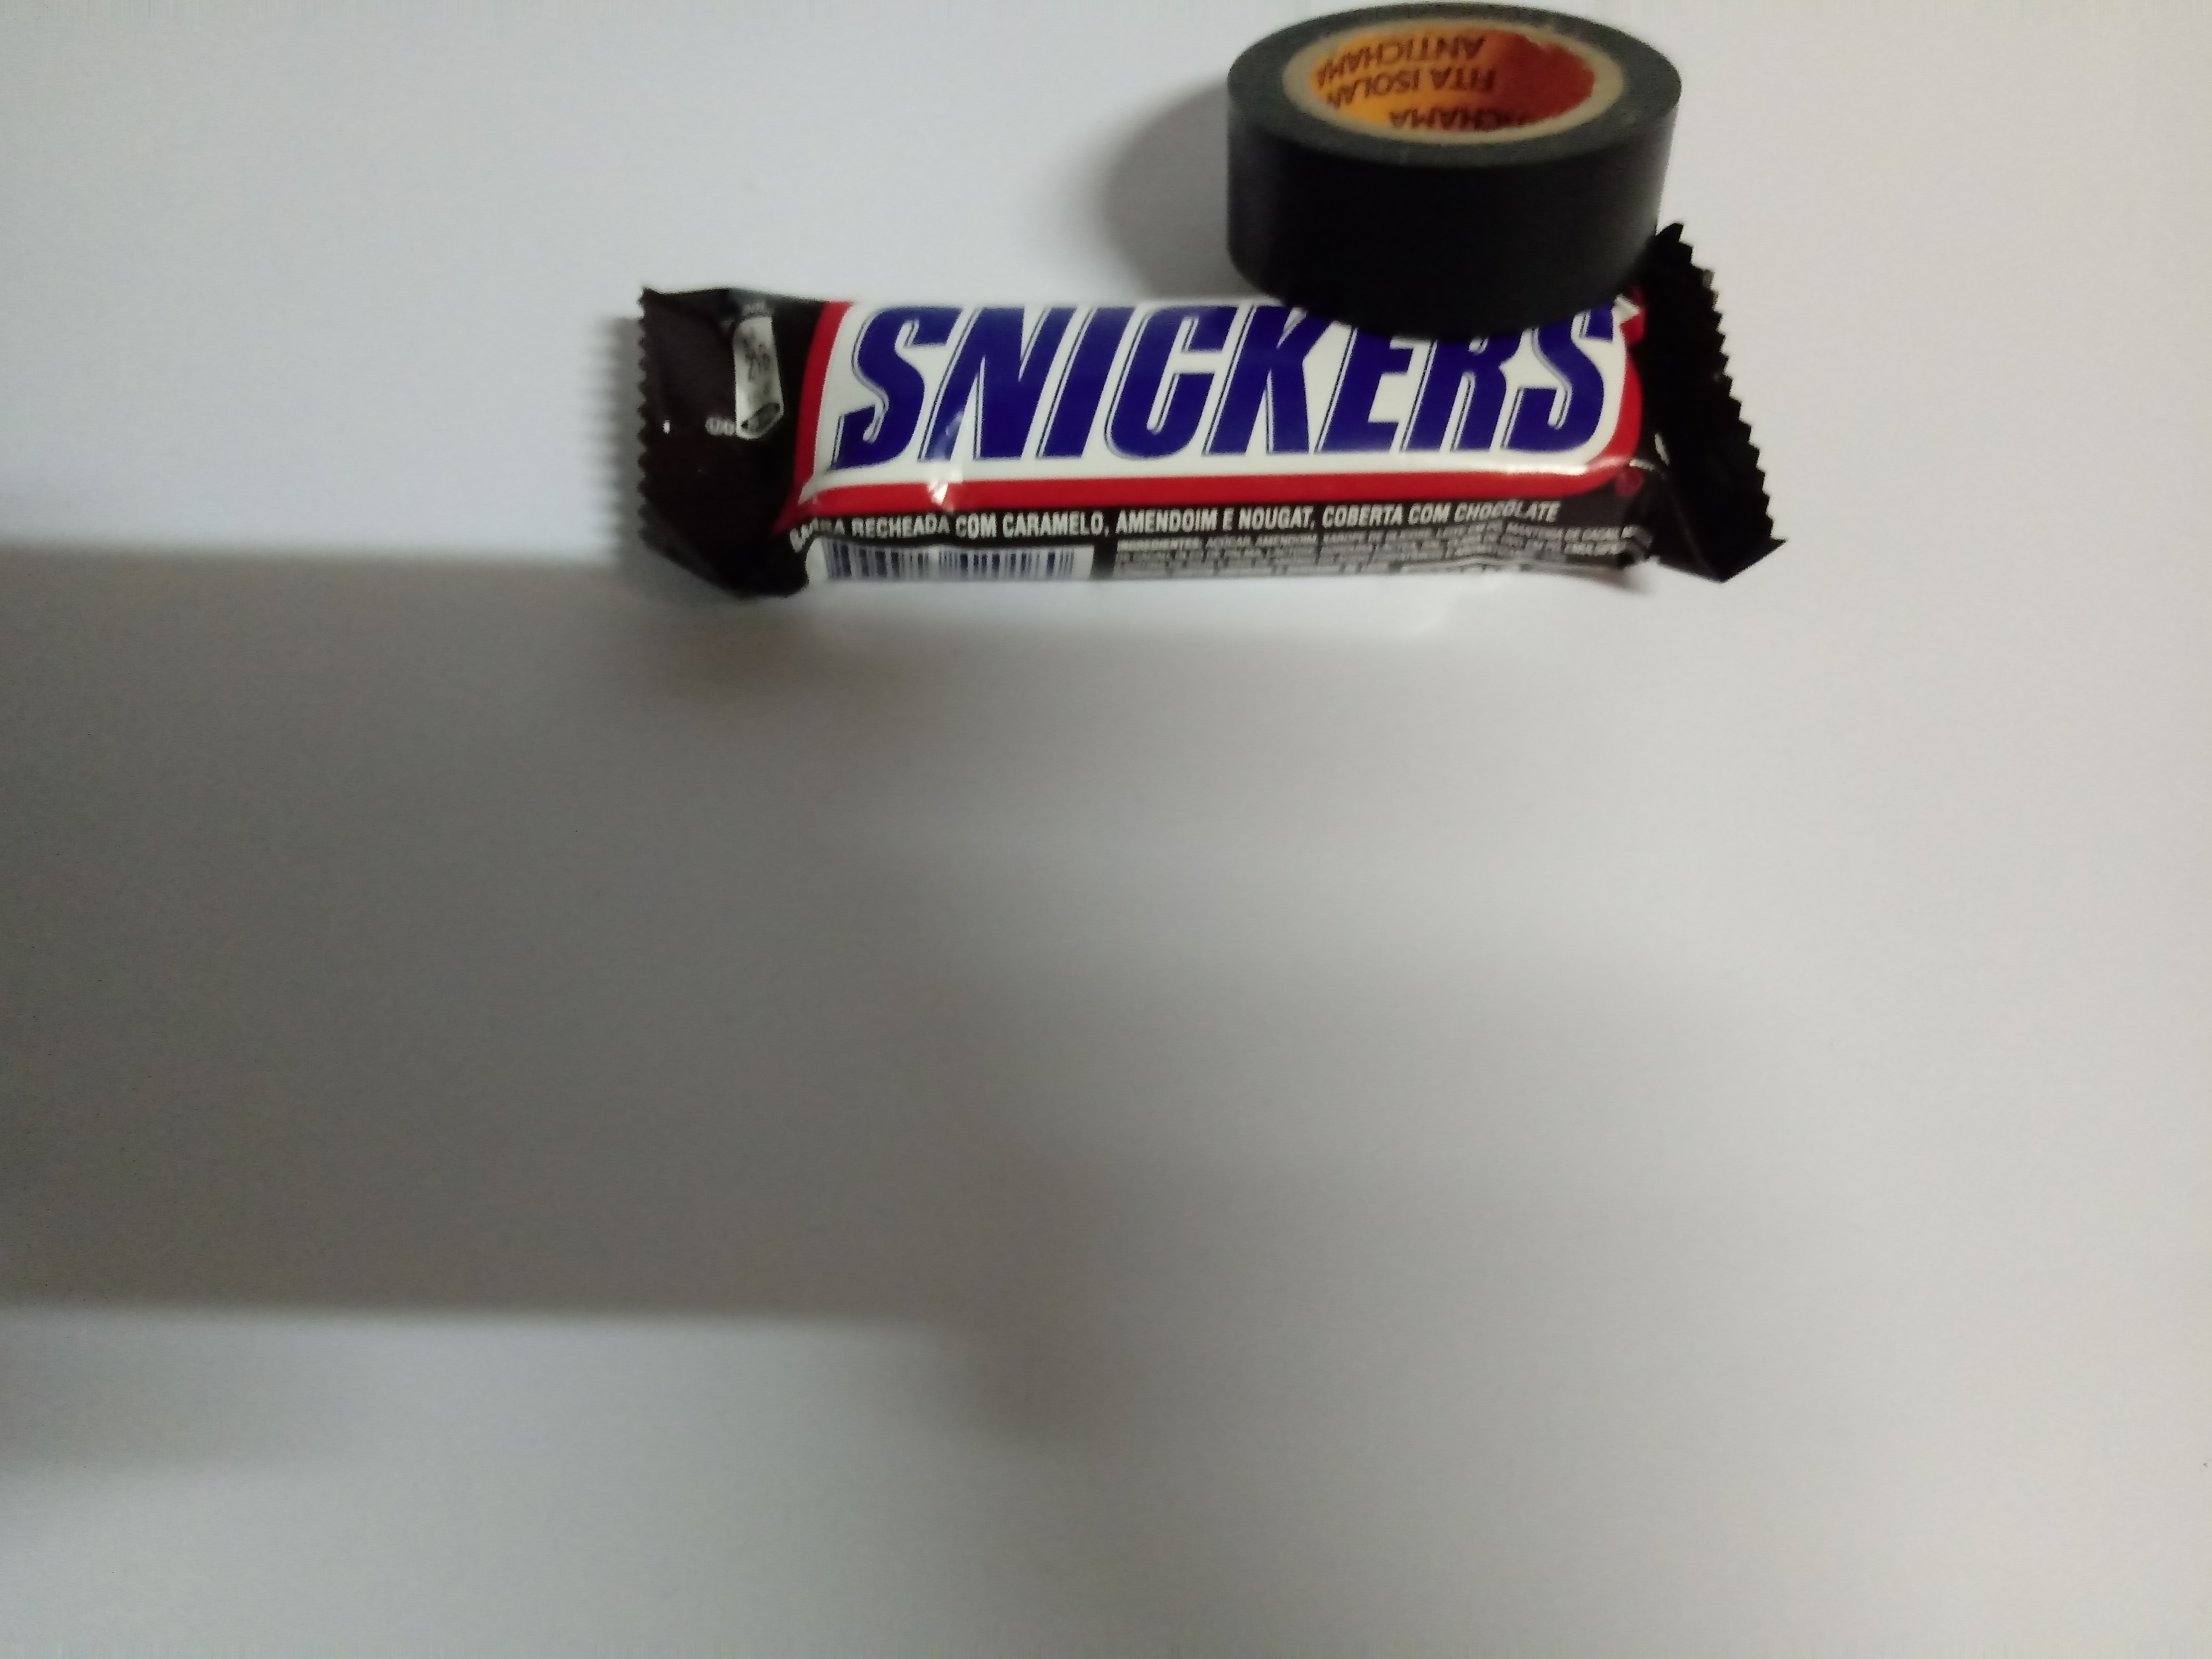snickers: (608, 216, 1797, 610)
